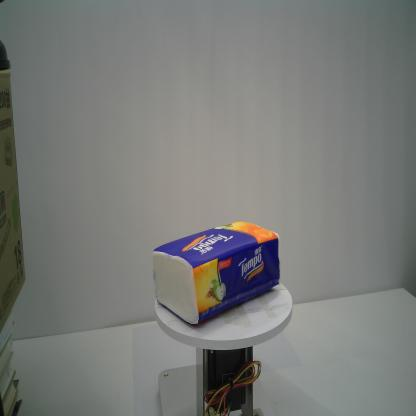Tissue: (153, 220, 281, 324)
